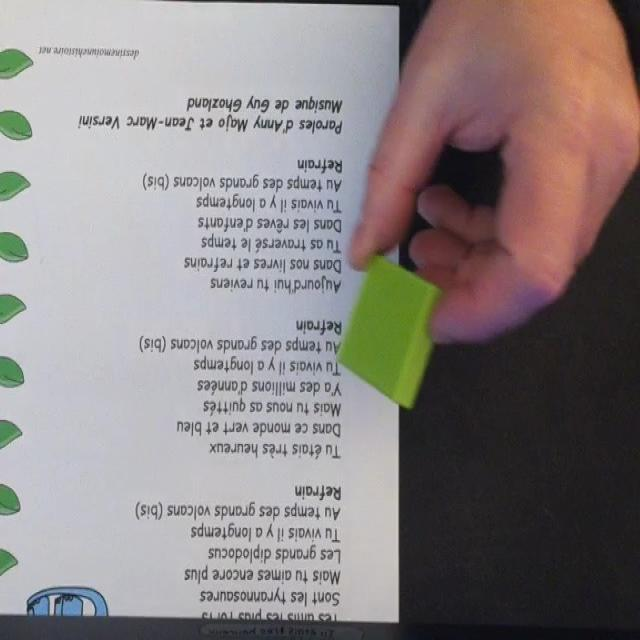square: (335, 255, 446, 408)
